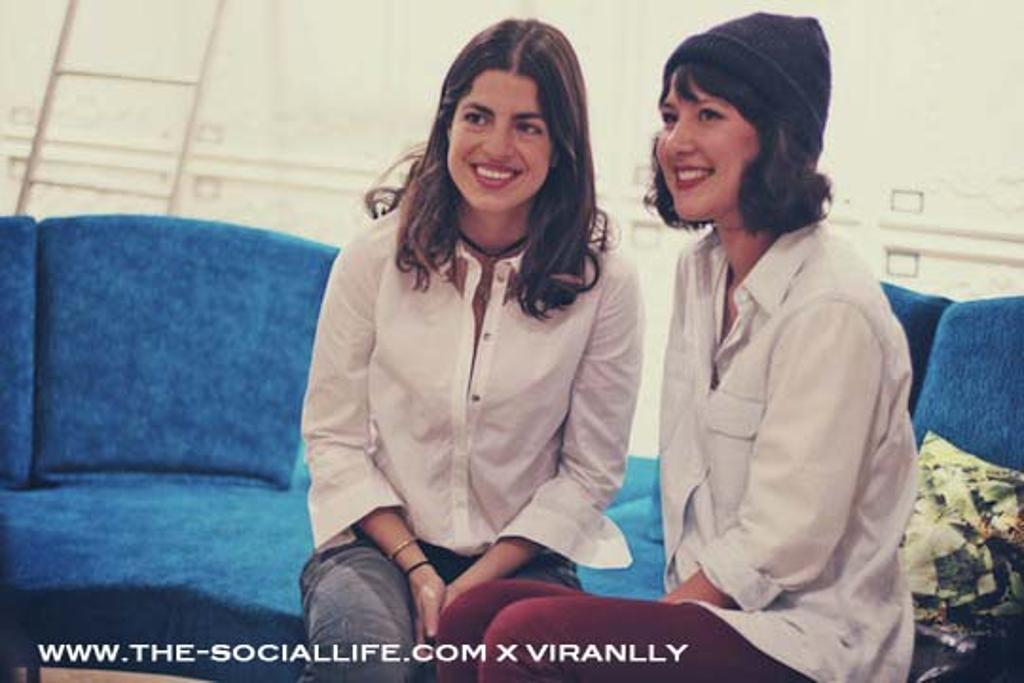face: (650, 62, 758, 222), (450, 72, 554, 206)
